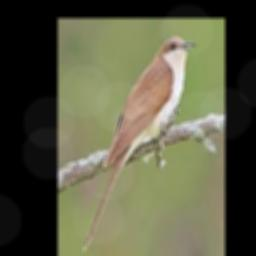Cuckoo: (82, 35, 196, 252)
